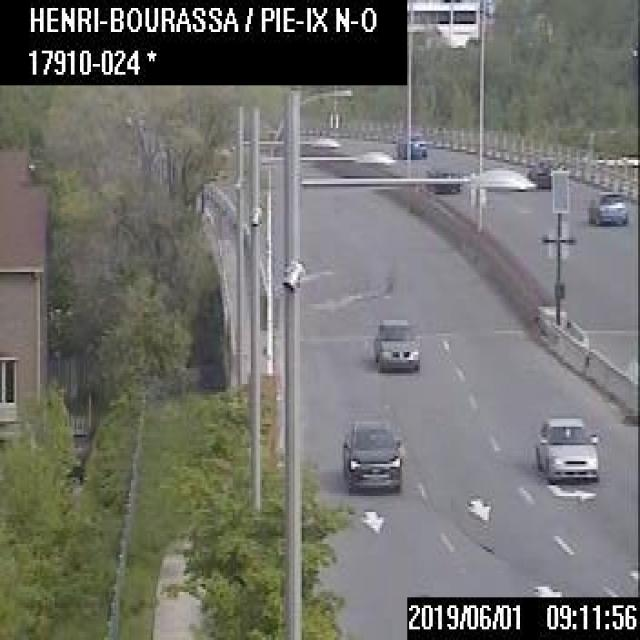vehicle: (340, 419, 400, 493), (534, 414, 596, 484), (373, 317, 418, 371), (585, 189, 627, 224), (424, 168, 458, 192), (393, 134, 425, 158), (524, 166, 551, 190)
